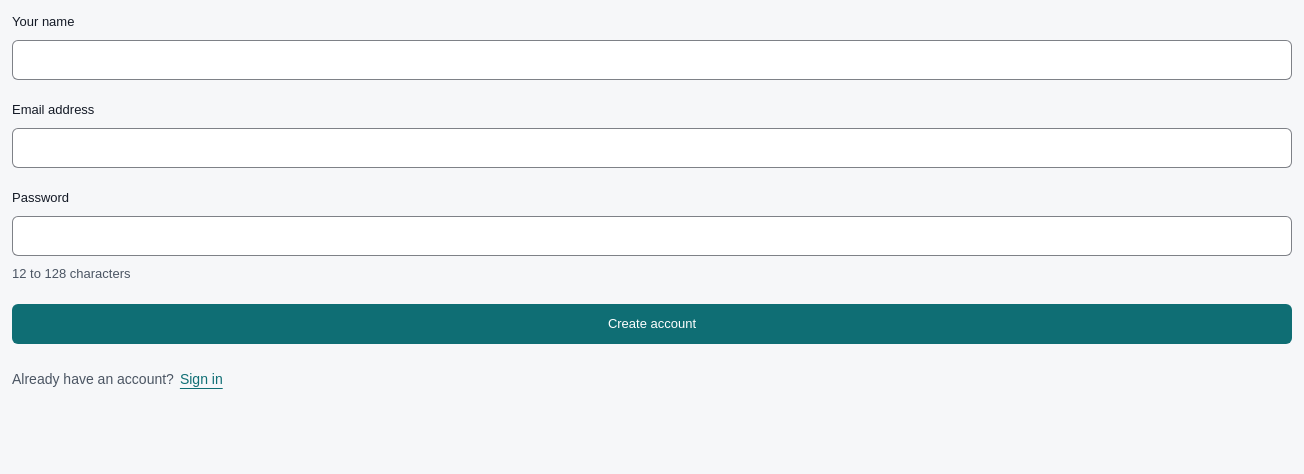
Test: SignUpForm (UI-002) › renders the retry-after seconds when the rate limiter refuses
Step 1. Type "Lena Ortiz" into the field labelled "Your name" → coordinates (652, 60), box [12,40,1292,80]
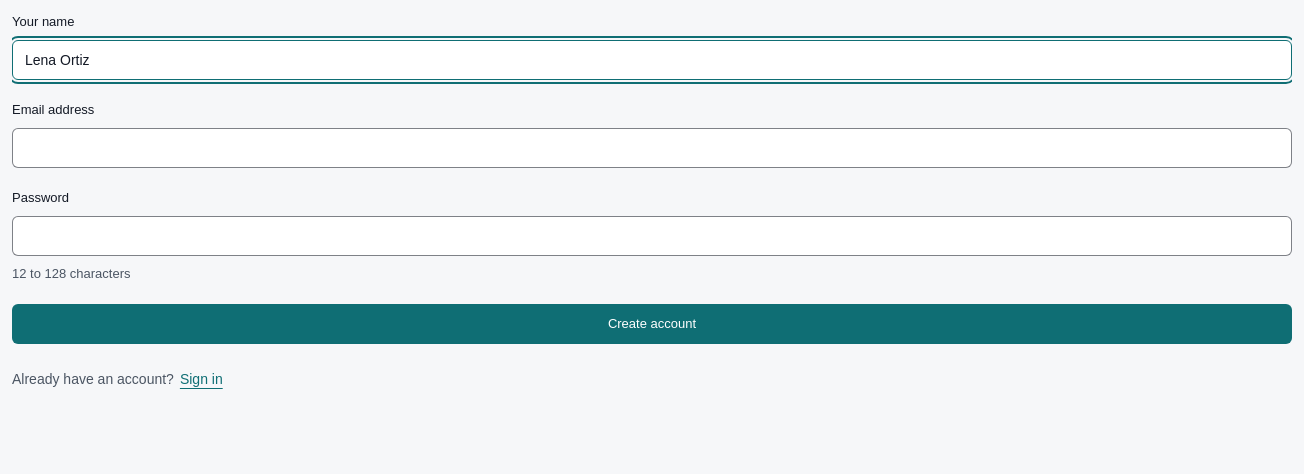
Step 2. Type "lena@example.edu" into the field labelled "Email address" → coordinates (652, 148), box [12,128,1292,168]
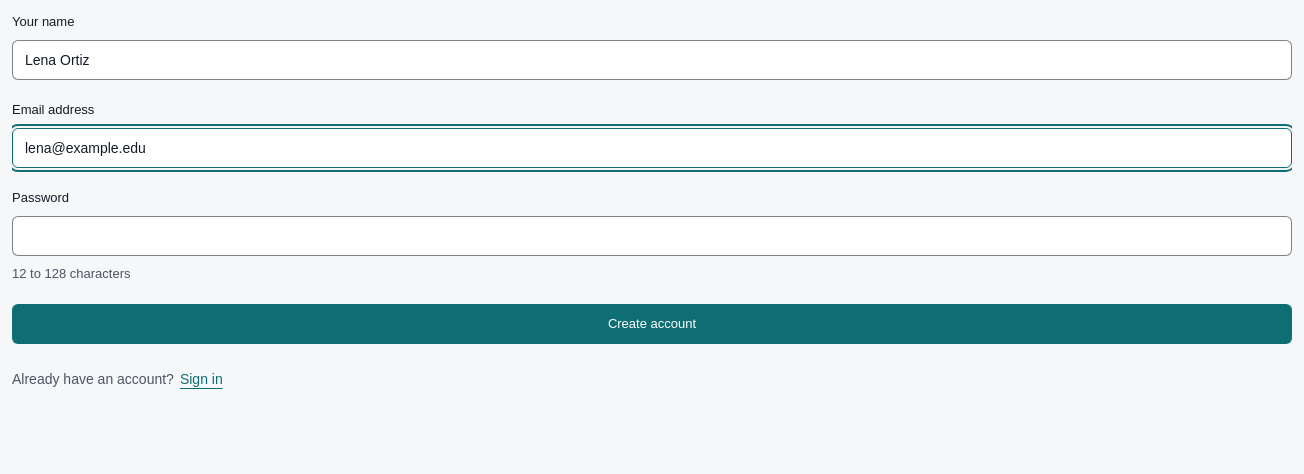
Step 3. Type "a-very-long-password" into the password field labelled "Password" → coordinates (652, 236), box [12,216,1292,256]
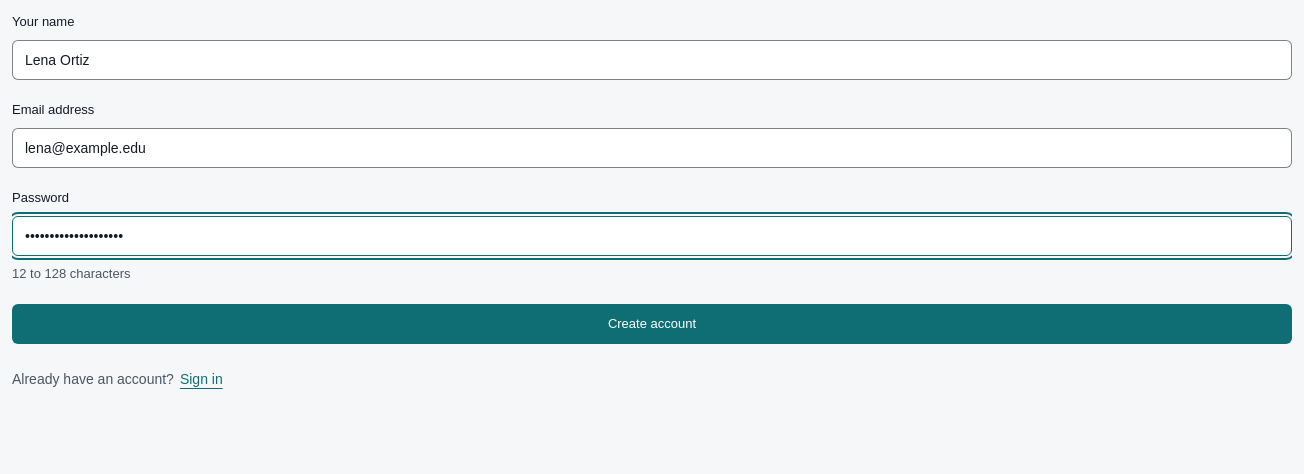
Step 4. Click the button "Create account" → coordinates (652, 324), box [12,304,1292,344]
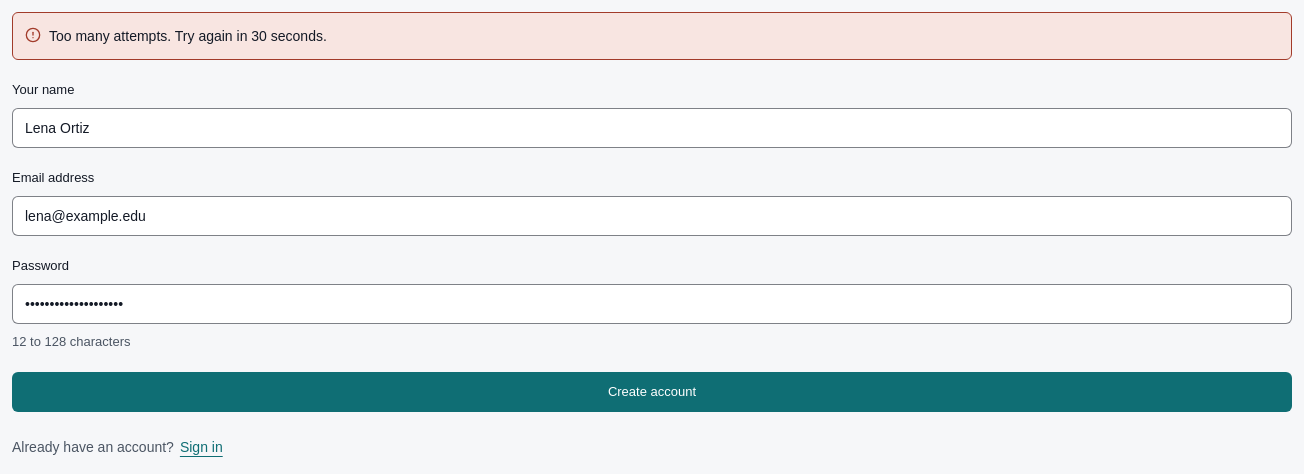
Check: the message shows "Try again in 30 seconds.", box [49,28,327,44]
